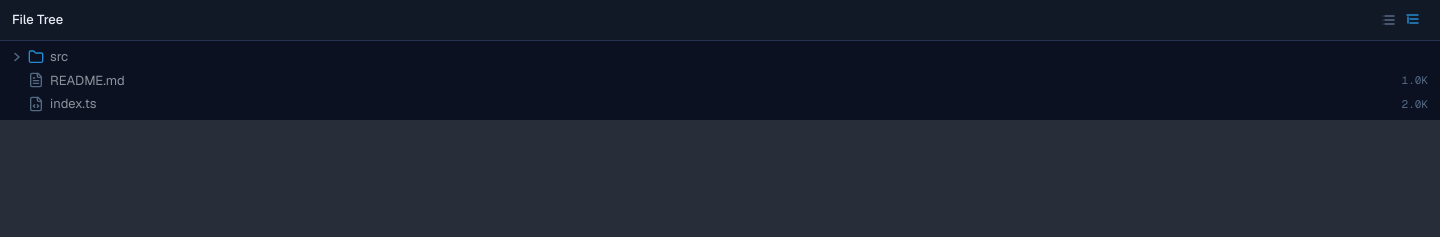
Test case: inline create › Enter with empty name shows Name required error
This screenshot has width=1440, height=237.
Right-click the element showing "src".
right_click(40, 56)  # box top-left (12, 48), bottom-right (68, 65)
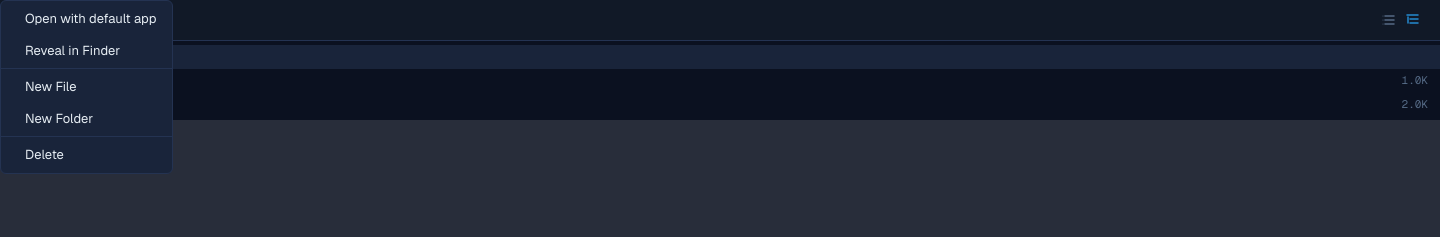
Click the menu item "New File".
click(51, 86)  # box top-left (25, 78), bottom-right (76, 95)
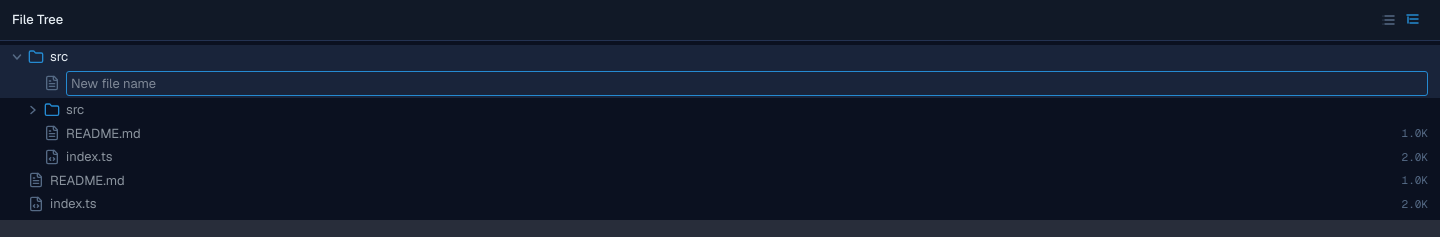
Press Enter in the field with placeholder "New file name", box top-left (66, 70), bottom-right (1428, 96)
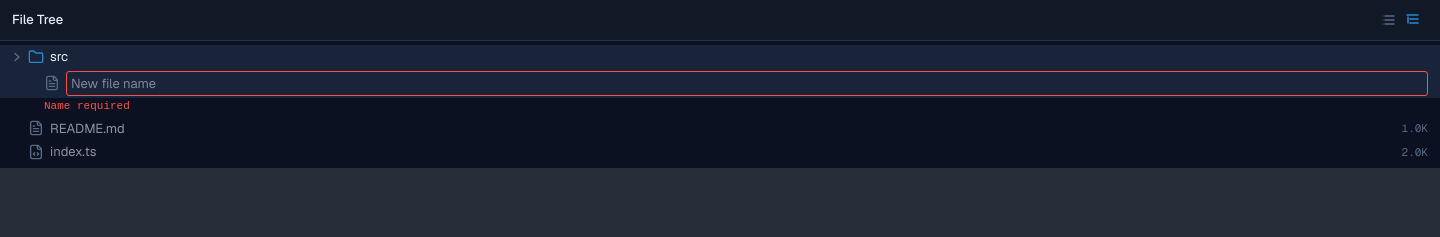
Now the text "Name required" is shown, box top-left (44, 100), bottom-right (130, 112)
